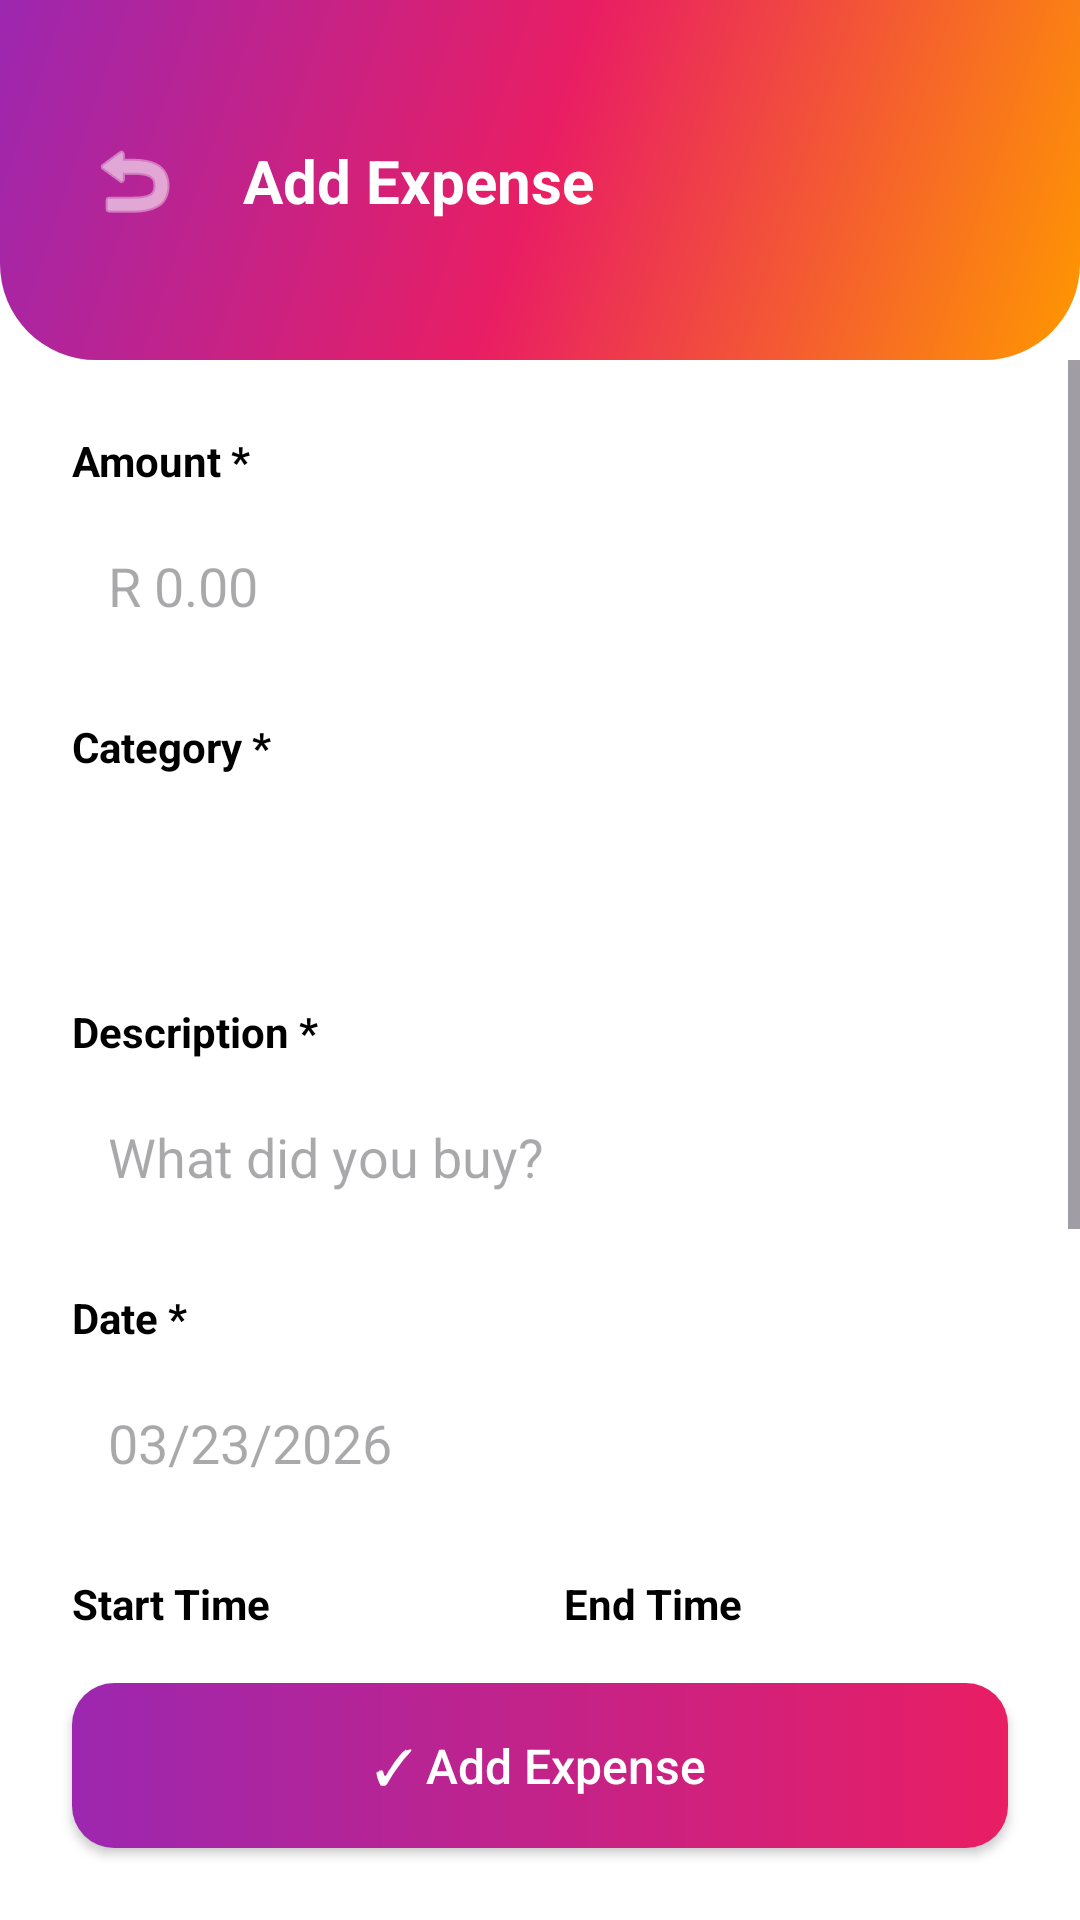

Screen size 1080 × 1920. Icon name, then its box in pixels as (x1, y1, x2, y2):
revert: (101, 150, 170, 213)
